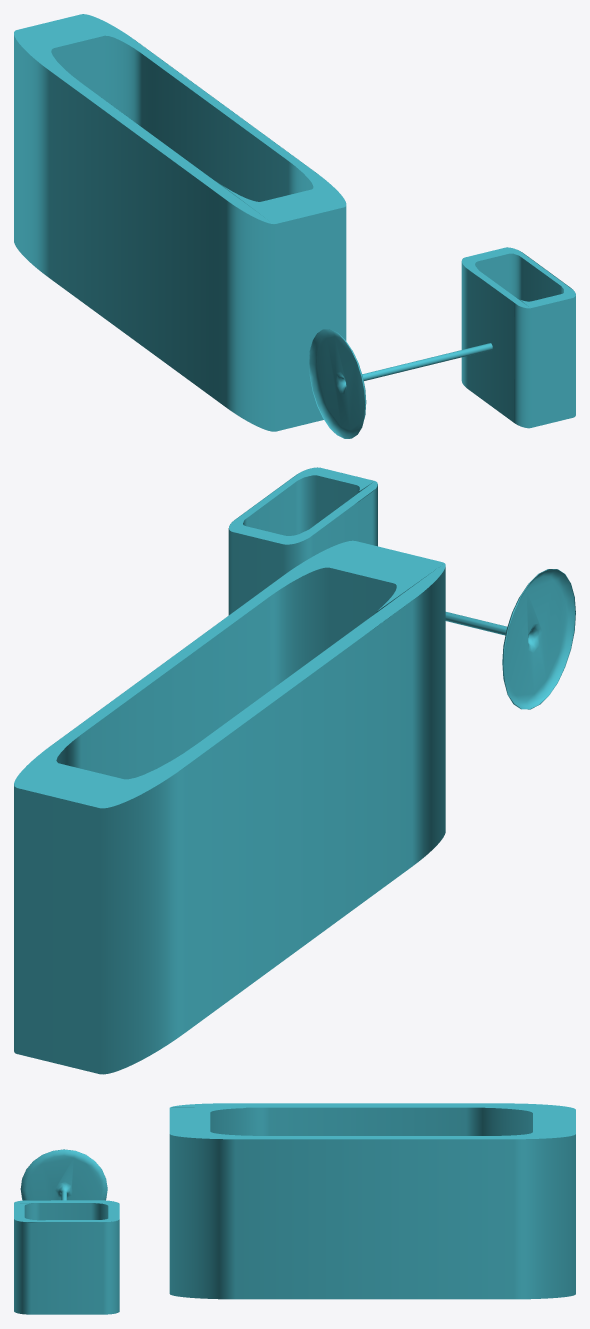
3 views of the same model, one above another, from view 1: azimuth 30°, elevation 25°; view 2: azimuth 150°, elevation 25°; view 3: azimuth 270°, elevation 25° (orthographic). The views are drawn at different scales.
Visible parts, largest first — view 1: Renderer Node; view 2: Renderer Node; view 3: Renderer Node.
Part boxes in pixels (x1,y1,x2,y2): Renderer Node: [14, 14, 575, 438]; Renderer Node: [14, 467, 575, 1074]; Renderer Node: [14, 1103, 575, 1314].
Size of the model in its own units: 0.3124 by 0.2848 by 0.9062.
1 material, 1 textured.
